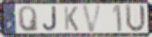1: (112, 4, 123, 34)
J: (42, 6, 58, 32)
K: (63, 6, 80, 33)
Q: (17, 5, 39, 33)
U: (125, 4, 147, 34)
V: (81, 4, 104, 34)
